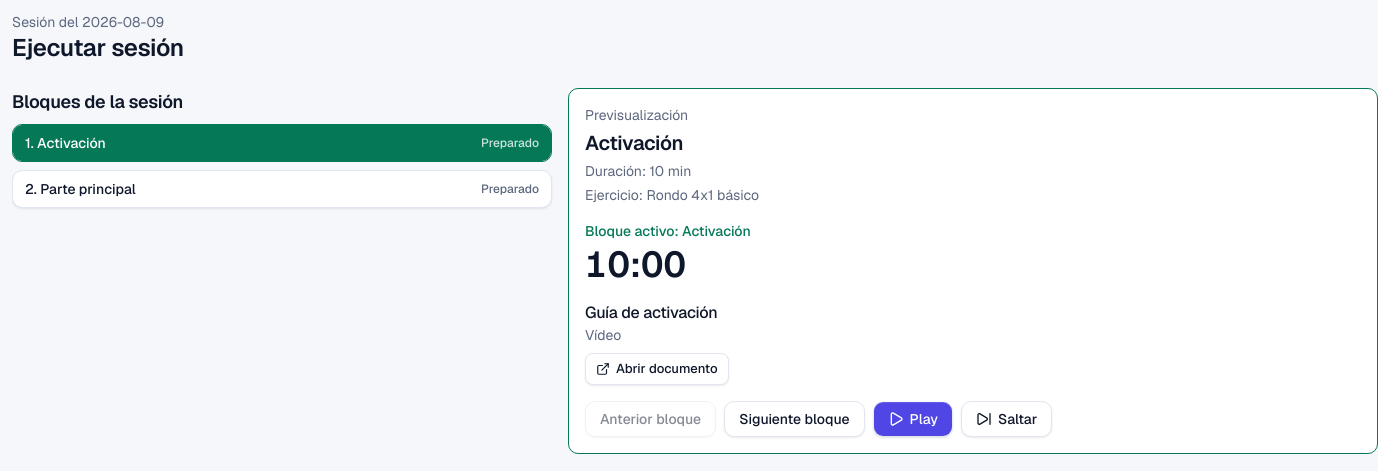
Test: SesionEjecutarView › permite saltar un bloque preparado sin iniciarlo y solo Play inicia el temporizador
Expected: the text named "tiempo restante de activación" reads "10:00", x1=585 y1=241 x2=686 y2=288
Expected: the button with aria-label "previsualizar activación" shows "Preparado", x1=12 y1=124 x2=552 y2=162
Click the button "Saltar" at (1007, 419), box x1=961 y1=401 x2=1052 y2=437
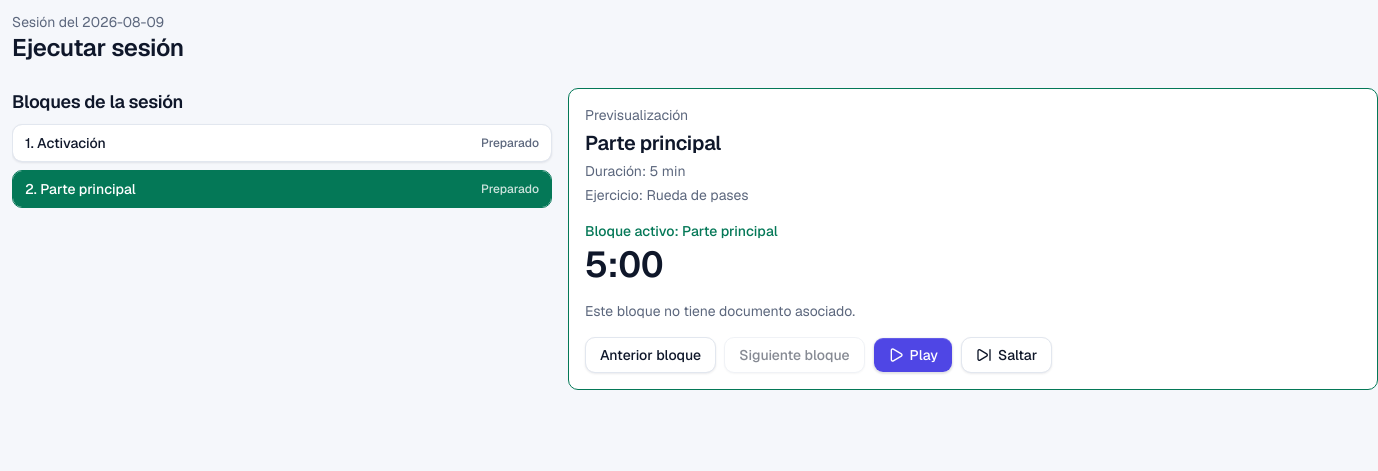
Expected: the button "Play" is shown, x1=872 y1=337 x2=953 y2=373
Now the text named "tiempo restante de parte principal" reads "5:00", box x1=585 y1=241 x2=663 y2=288
Click the button "Anterior bloque" at (651, 355), box x1=585 y1=337 x2=716 y2=373
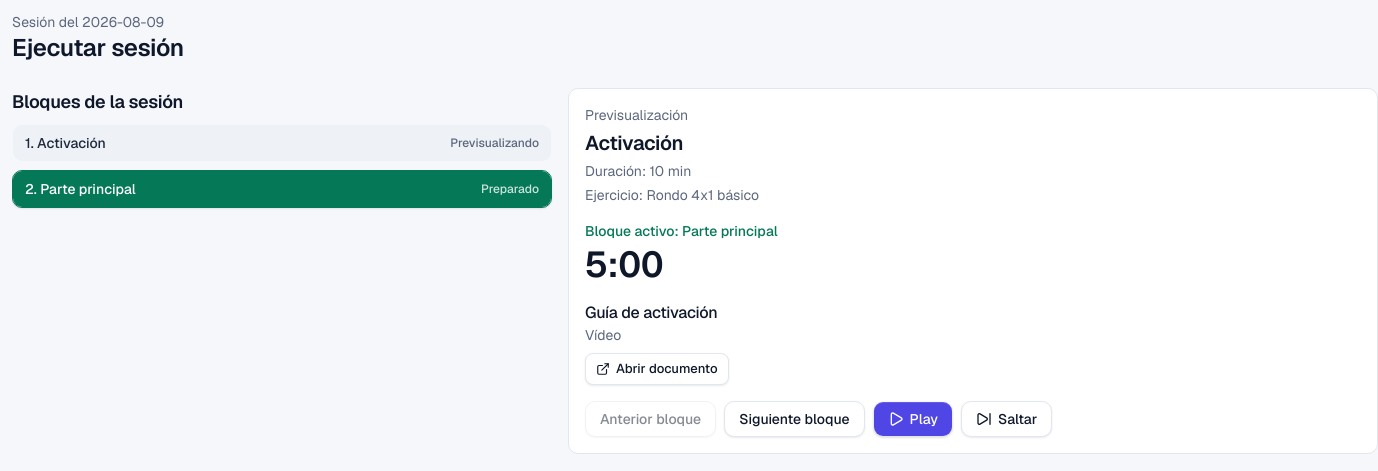
Now the text named "tiempo restante de parte principal" reads "5:00", box x1=585 y1=241 x2=663 y2=288
Now the text "Previsualizando" is shown, box x1=450 y1=135 x2=539 y2=151
Now the heading "Activación" is shown, box x1=585 y1=130 x2=683 y2=156
Click the button "Play" at (913, 419), box x1=872 y1=401 x2=953 y2=437
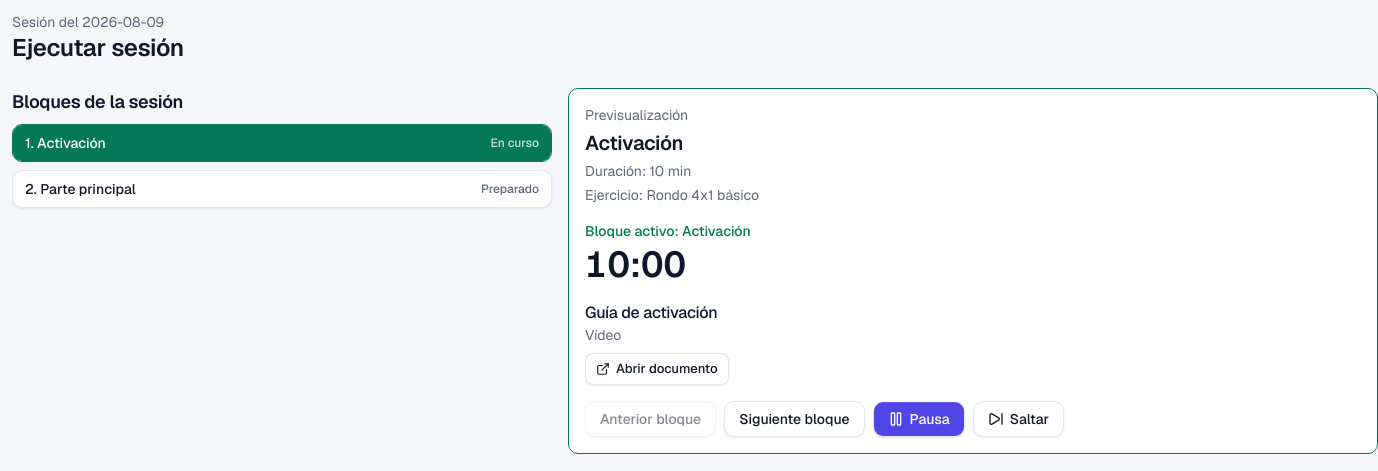
Now the button "Pausa" is shown, box x1=872 y1=401 x2=965 y2=437
Now the text named "tiempo restante de activación" reads "10:00", box x1=585 y1=241 x2=686 y2=288
Click the button "Saltar" at (1018, 419), box x1=973 y1=401 x2=1064 y2=437
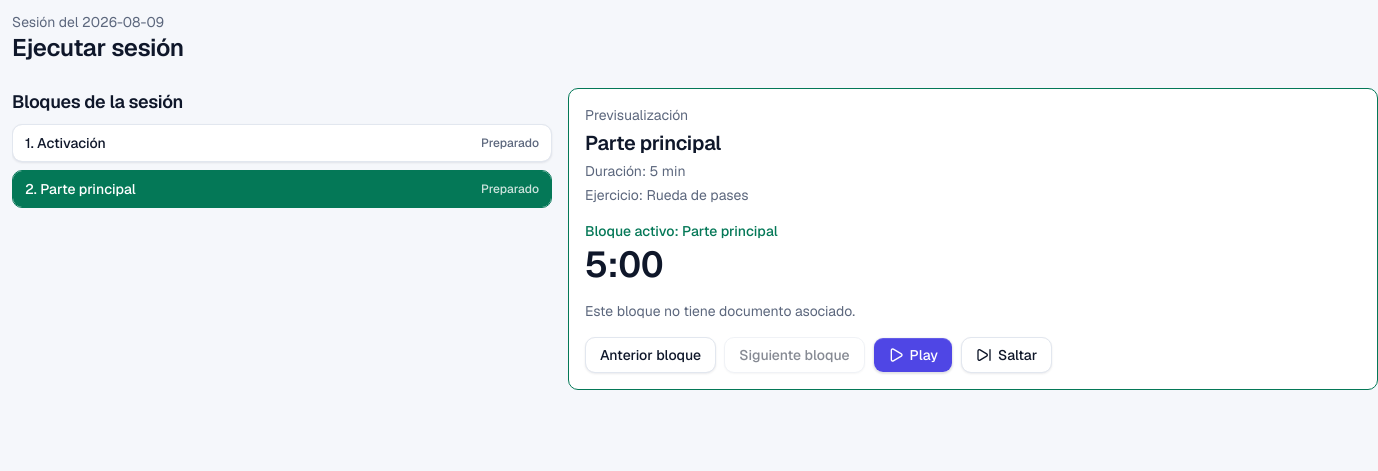
Now the button "Play" is shown, box x1=872 y1=337 x2=953 y2=373
